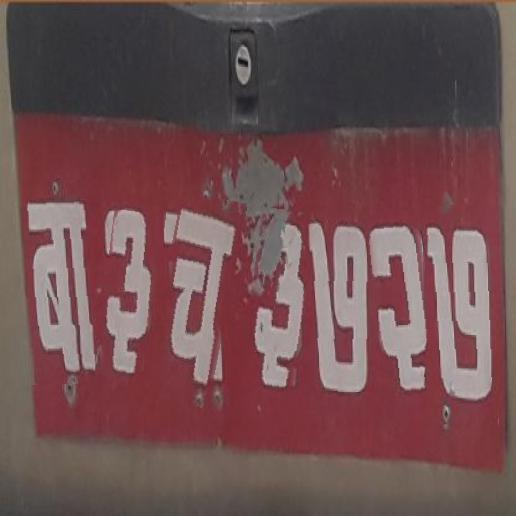2: (371, 210, 434, 420)
3: (241, 209, 312, 425), (98, 194, 162, 405)
7: (426, 204, 498, 436), (304, 203, 373, 416)
ba: (23, 179, 100, 385)
cha: (152, 193, 238, 406)
